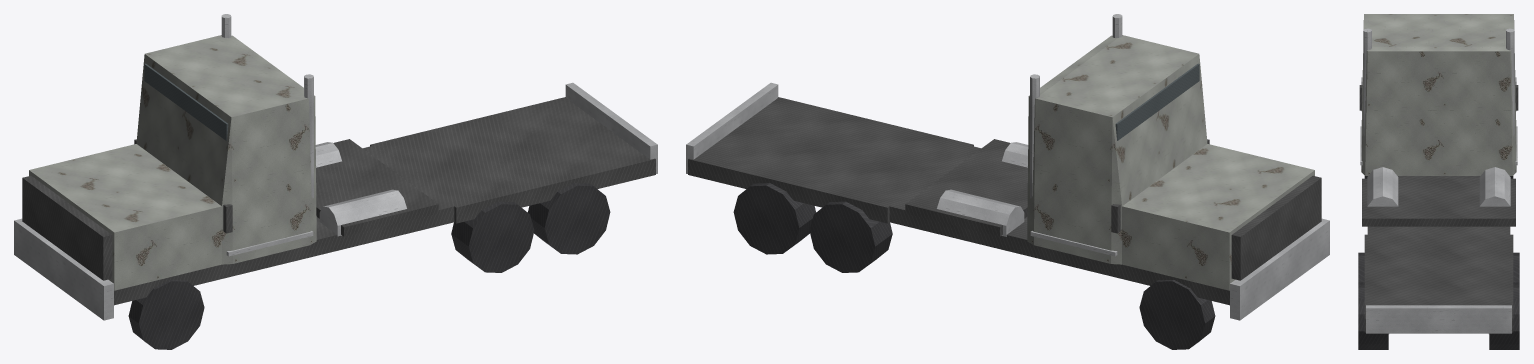
File: truck_semi.glb
3 views of the same model, side by side, from view 1: azimuth 30°, elevation 25°; view 2: azimuth 150°, elevation 25°; view 3: azimuth 270°, elevation 25° (orthographic). The views are drawn at different scales.
Visible parts, largest first — view 1: NC_truck_semi; view 2: NC_truck_semi; view 3: NC_truck_semi.
Part boxes in pixels (x1,y1,x2,y2): NC_truck_semi: (14,14,657,349); NC_truck_semi: (686,14,1329,349); NC_truck_semi: (1358,14,1519,349).
Size of the model in its own units: 8.8 by 3.6 by 2.56.
Materials: 7 (7 with a texture image).
